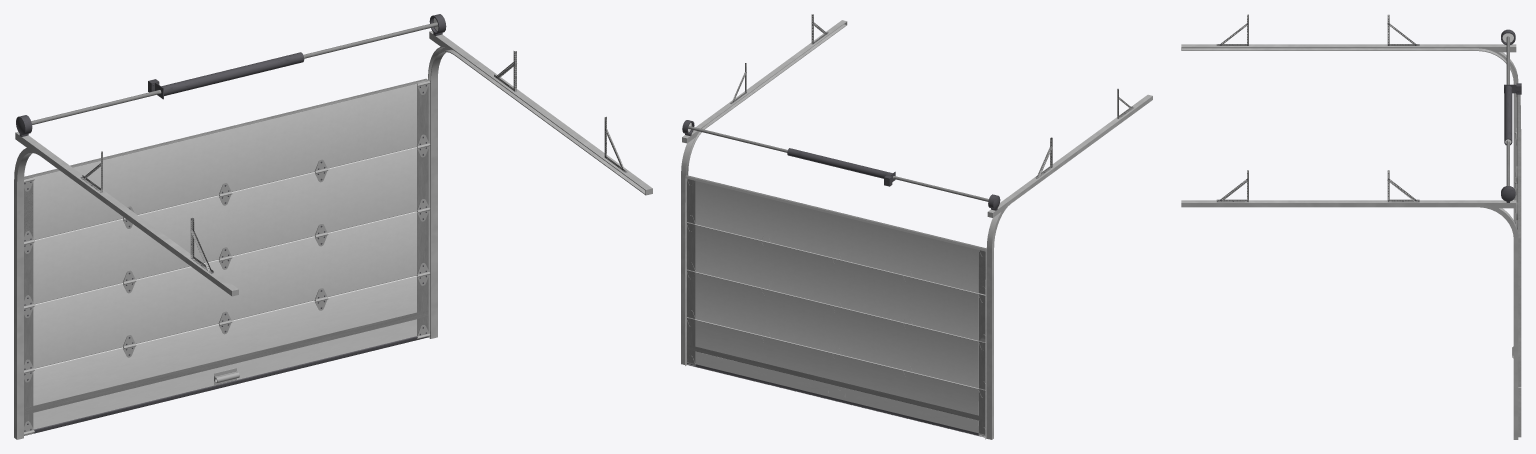
The model's file is garage door.fbx.
The picture shows the model from 3 angles, left to right: view 1: azimuth 30°, elevation 25°; view 2: azimuth 150°, elevation 25°; view 3: azimuth 270°, elevation 25°; orthographic projection. The views are drawn at different scales.
Visible parts, largest first — view 1: Cube.003; view 2: Cube.003; view 3: Cube.003.
Part boxes in pixels (box(x1,y1,x2,y2)): Cube.003: box(14, 14, 652, 439); Cube.003: box(681, 14, 1152, 439); Cube.003: box(1181, 14, 1521, 439).
Size of the model in its own units: 476 by 372 by 427.
1 material, 1 textured.
